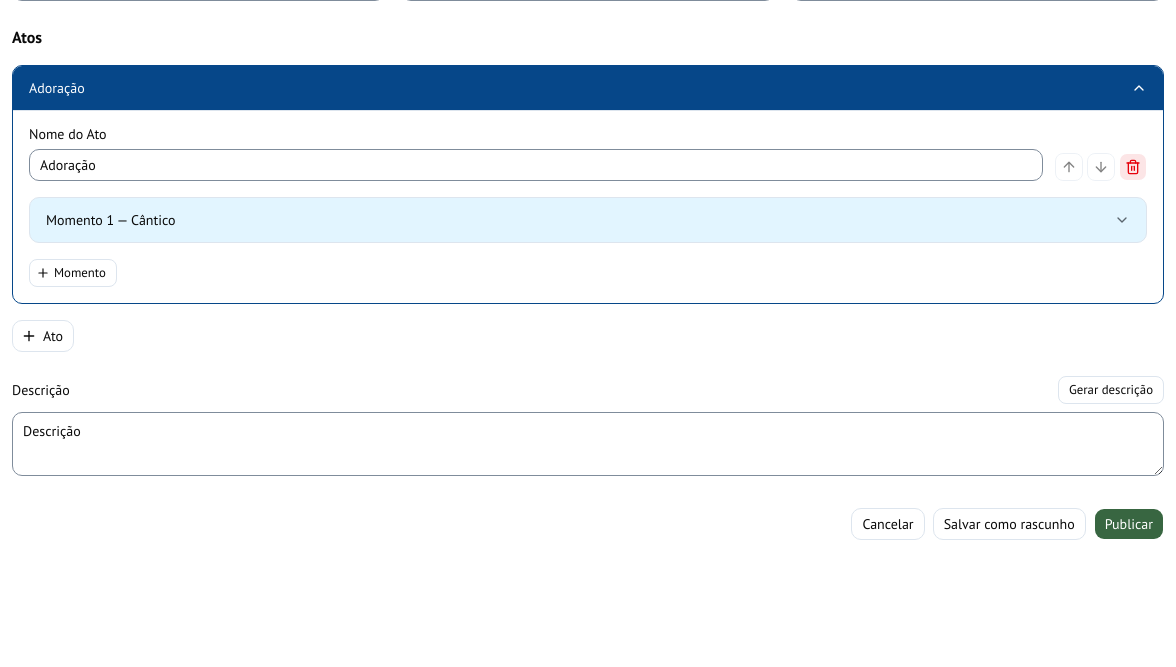
Test: LiturgyForm Cântico › shows a card for a saved Cântico that was deleted, instead of a search that hides it
Click the button "Momento 1 — Cântico".
click(76, 220)  # box [30,198,1146,242]
(page scrolled)
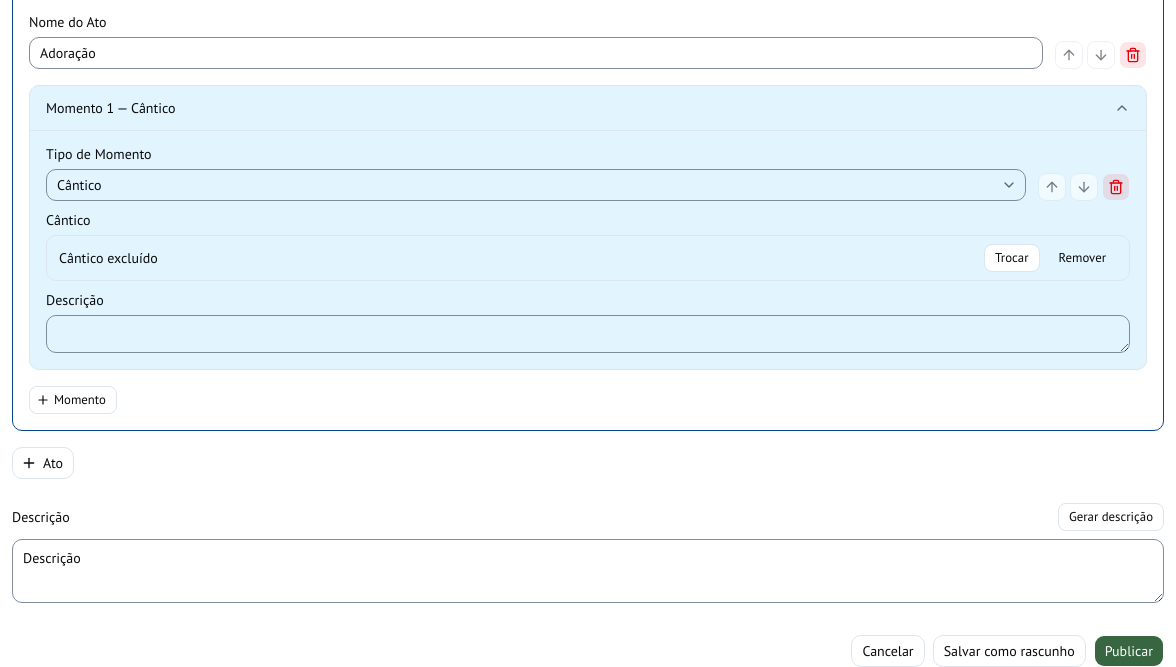
Check: the element named "Cântico selecionado" shows "Cântico excluído", box [59,249,158,267]
